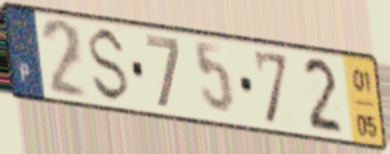2: (39, 16, 92, 103), (301, 55, 347, 140)
5: (190, 38, 240, 123)
7: (142, 31, 184, 113), (252, 46, 293, 128)
S: (87, 25, 133, 106)
